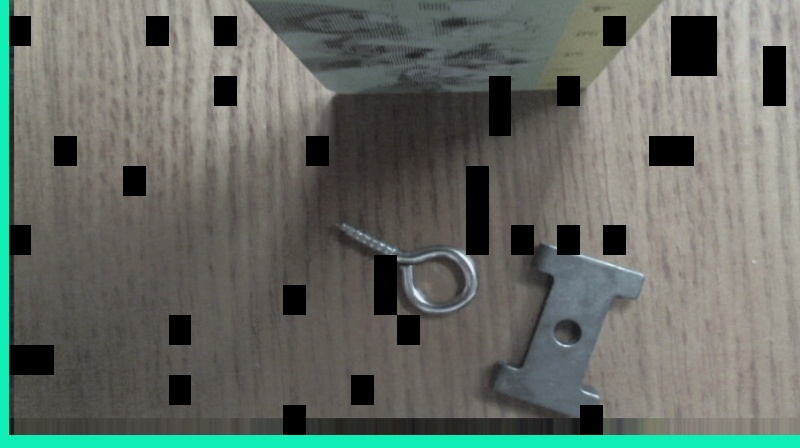O001: (332, 218, 481, 315)
O002: (486, 239, 647, 416)
